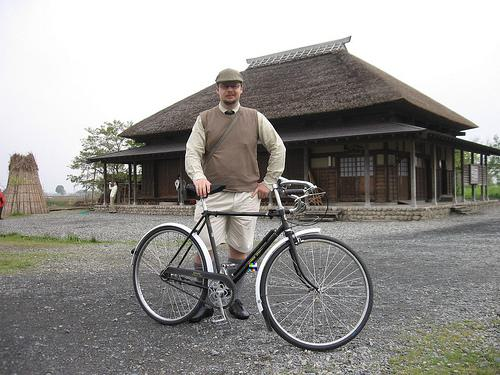car: (131, 180, 375, 354)
person: (187, 70, 289, 329)
